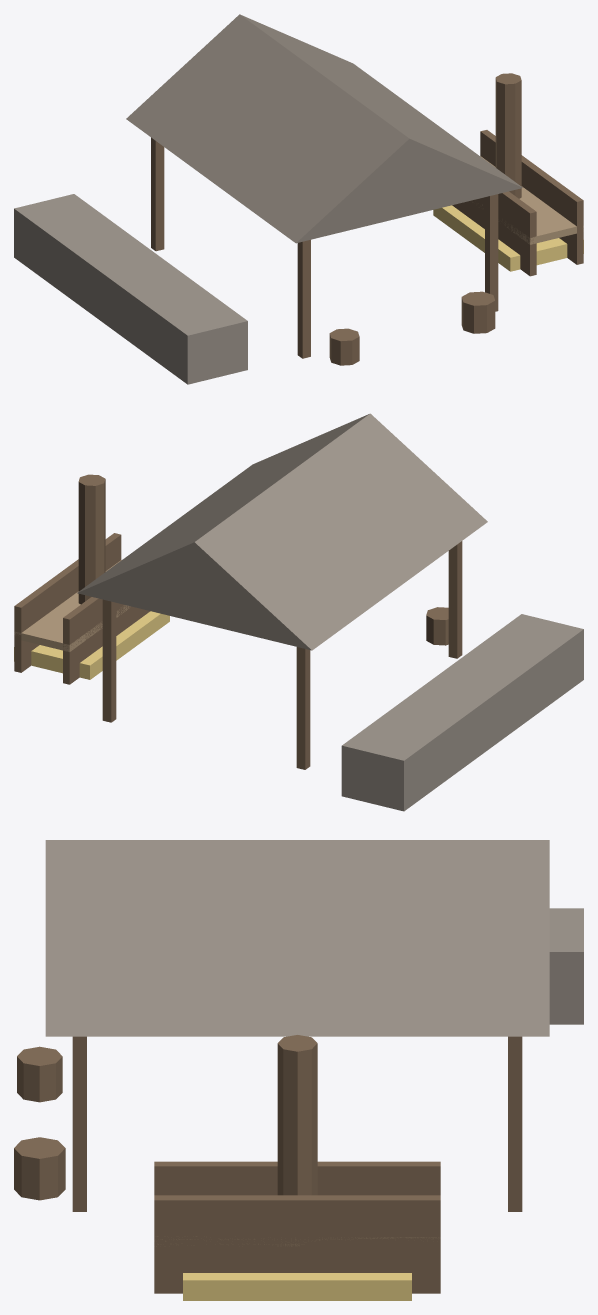
Rendered from logging_camp.glb.
3 renders of one model, top to bottom at view 1: azimuth 30°, elevation 25°; view 2: azimuth 150°, elevation 25°; view 3: azimuth 270°, elevation 25°, orthographic. The views are drawn at different scales.
Visible parts, largest first — view 1: LoggingCamp; view 2: LoggingCamp; view 3: LoggingCamp.
Boxes of the visible parts, x1=… form: LoggingCamp: x1=14, y1=14, x2=583, y2=384; LoggingCamp: x1=14, y1=413, x2=583, y2=811; LoggingCamp: x1=14, y1=840, x2=583, y2=1300.
Bounding box in the file's own units: 13 × 5.85 × 9.95.
